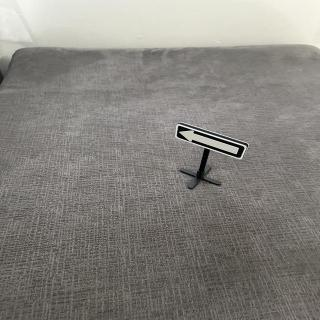sign_oneway_left: (175, 120, 251, 162)
